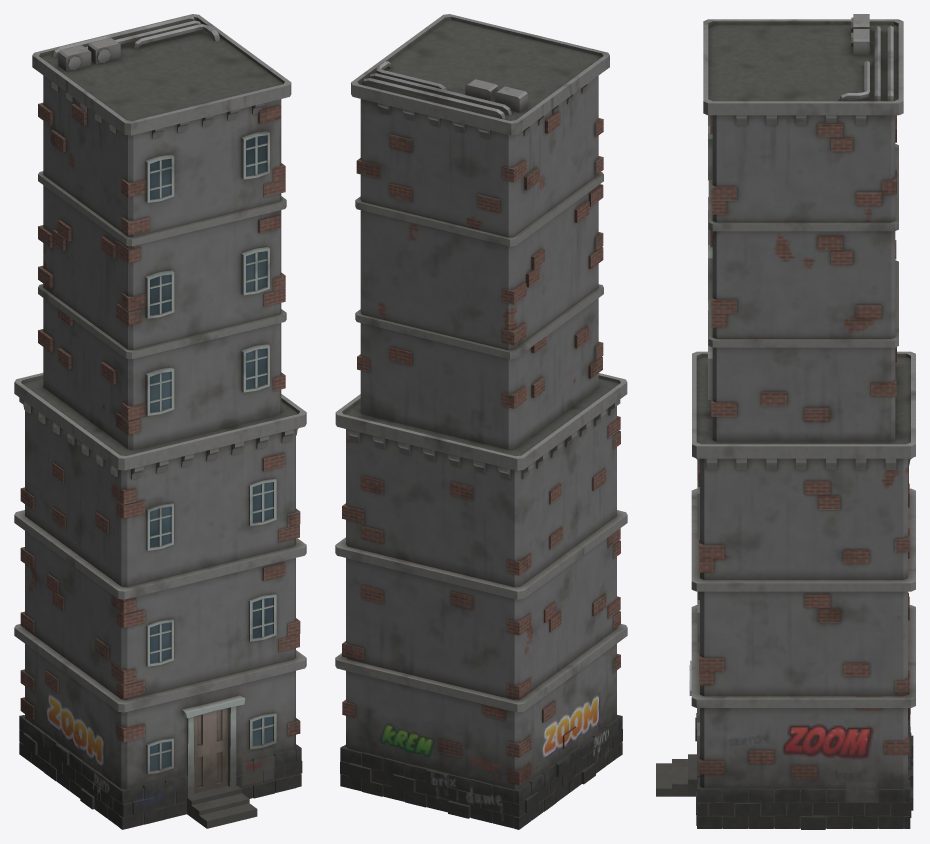
The model's file is 6Story_Stack.glb.
3 renders of one model, left to right at view 1: azimuth 30°, elevation 25°; view 2: azimuth 150°, elevation 25°; view 3: azimuth 270°, elevation 25°, orthographic. The views are drawn at different scales.
Parts seen in each view (by area): view 1: 6Story_Stack_low; view 2: 6Story_Stack_low; view 3: 6Story_Stack_low.
Boxes of the visible parts, box(x1,y1,x2,y2) form: 6Story_Stack_low: box(14, 14, 306, 829); 6Story_Stack_low: box(335, 14, 627, 829); 6Story_Stack_low: box(656, 14, 915, 829).
Size of the model in its own units: 2.16 by 7.8 by 2.5.
2 materials, 2 textured.
